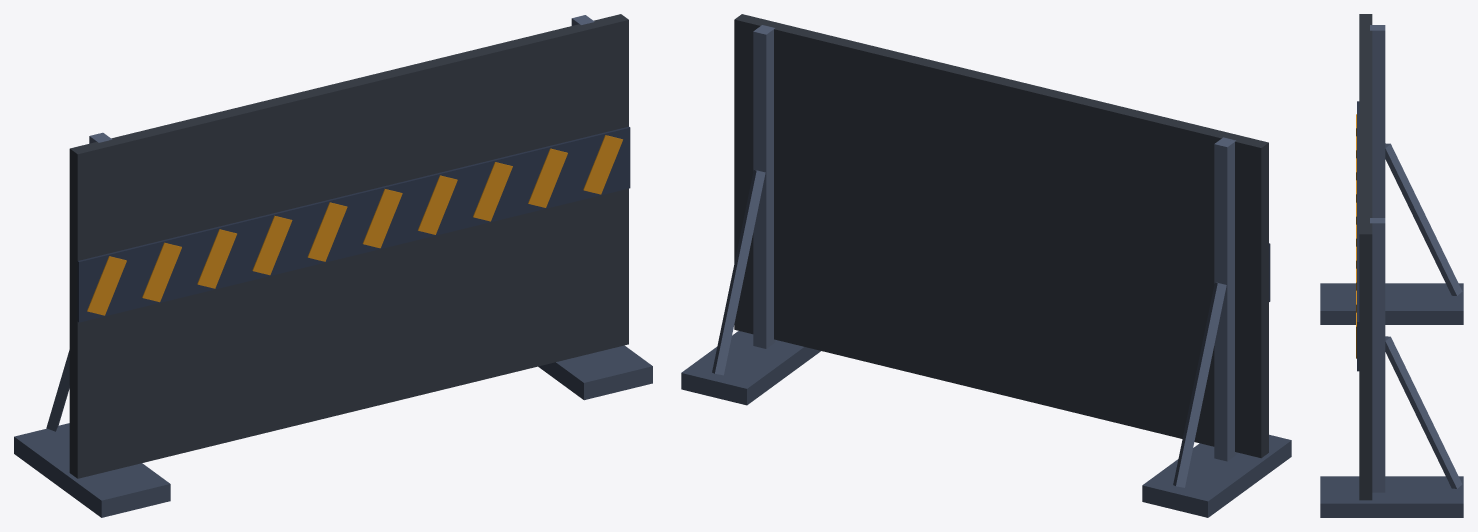
File: build_hoarding_fence.glb
3 renders of one model, left to right at view 1: azimuth 30°, elevation 25°; view 2: azimuth 150°, elevation 25°; view 3: azimuth 270°, elevation 25°, orthographic. The views are drawn at different scales.
Visible parts, largest first — view 1: container_graphite, trim, hivis, concrete, metal; view 2: container_graphite, metal, concrete; view 3: metal, concrete, container_graphite, trim, hivis.
Part boxes in pixels (bbox=[...]): container_graphite: bbox=[69, 14, 628, 478]; trim: bbox=[77, 126, 630, 322]; hivis: bbox=[87, 135, 622, 315]; concrete: bbox=[14, 345, 652, 517]; metal: bbox=[46, 15, 594, 431]; container_graphite: bbox=[734, 14, 1268, 458]; metal: bbox=[712, 25, 1236, 487]; concrete: bbox=[681, 331, 1291, 517]; metal: bbox=[1370, 25, 1462, 492]; concrete: bbox=[1320, 283, 1463, 517]; container_graphite: bbox=[1359, 14, 1372, 500]; trim: bbox=[1357, 101, 1359, 371]; hivis: bbox=[1356, 114, 1356, 358].
Size of the model in its own units: 4 by 2.4 by 1.1.
